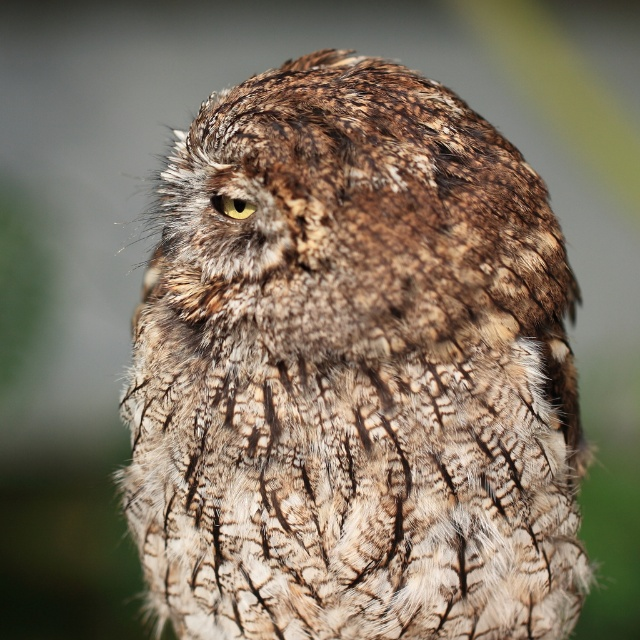Owl: (110, 47, 598, 640)
